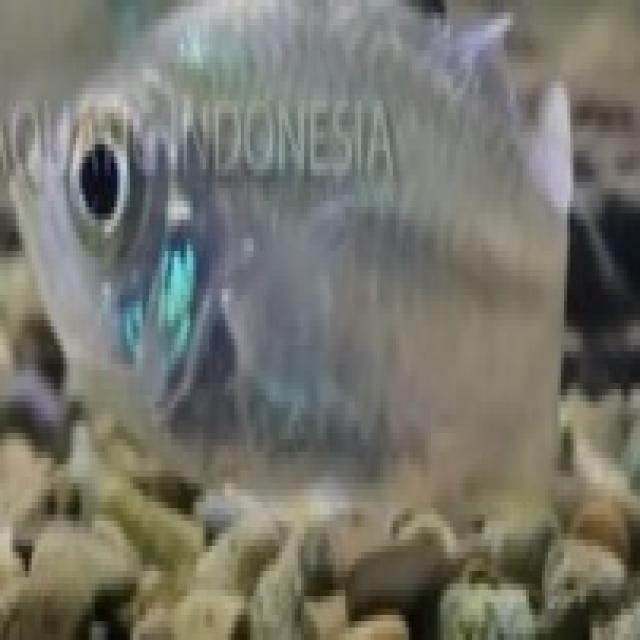Glass-Perchlet: (8, 0, 600, 594)
